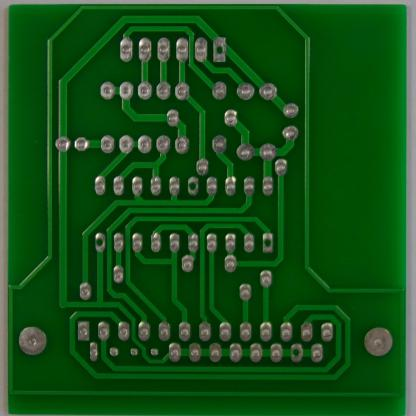missing_hole: (211, 41, 229, 58), (261, 233, 275, 252), (290, 344, 304, 362), (186, 178, 200, 195), (93, 234, 107, 251)
